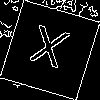X: (24, 25, 71, 77)
